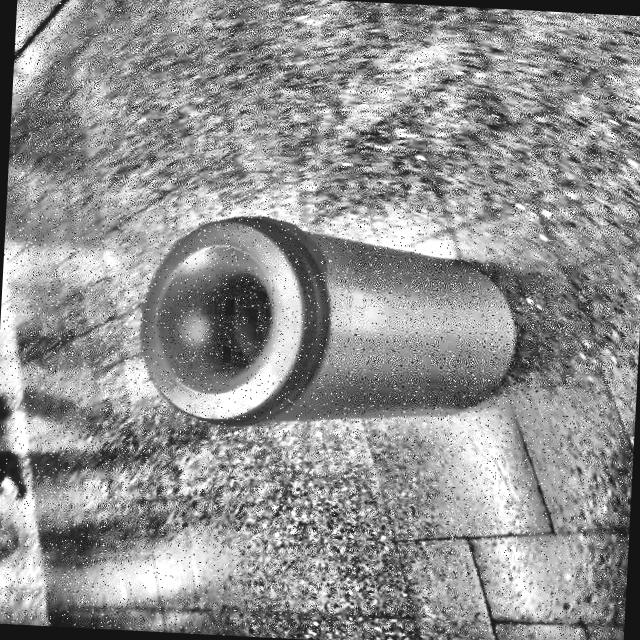Dustbin: (99, 163, 534, 458)
